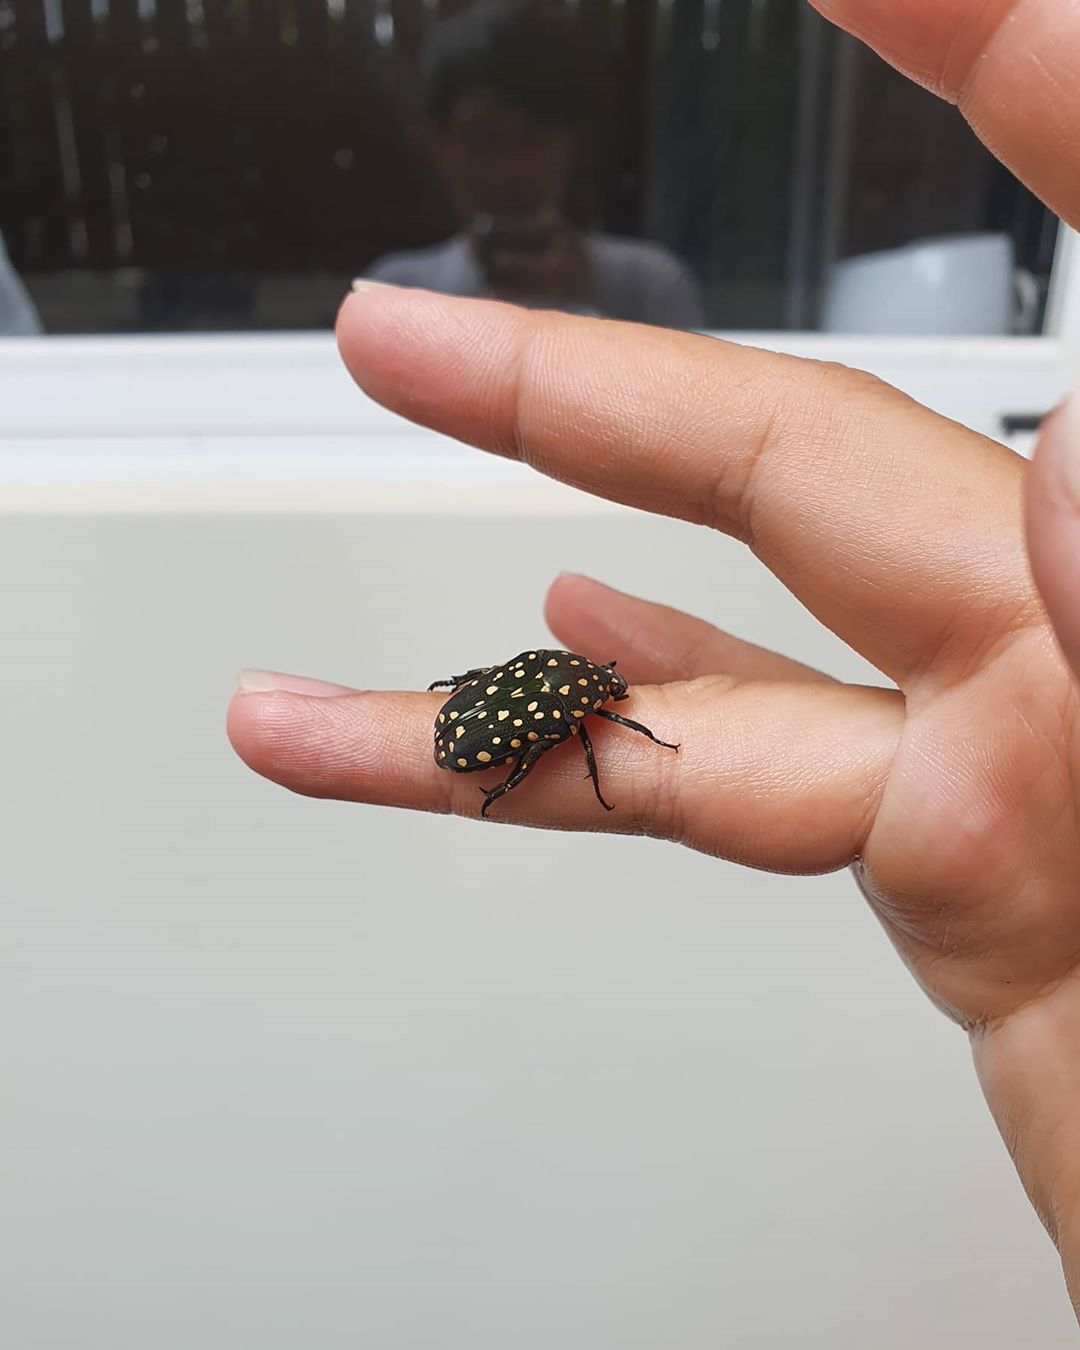Protaetia_niveoguttata: (409, 627, 687, 833)
